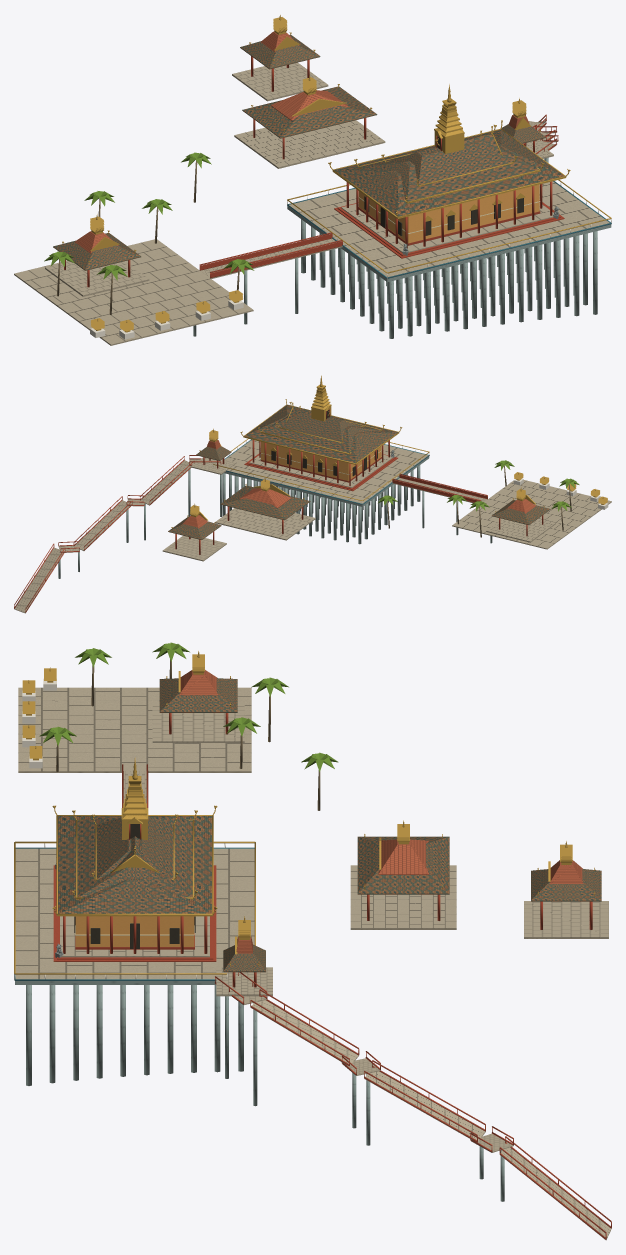
File: chua-ta-pa-mid.glb
3 views of the same model, one above another, from view 1: azimuth 30°, elevation 25°; view 2: azimuth 150°, elevation 25°; view 3: azimuth 270°, elevation 25° (orthographic). The views are drawn at different scales.
Visible parts, largest first — view 1: Chùa Tà Pạ mid; view 2: Chùa Tà Pạ mid; view 3: Chùa Tà Pạ mid.
Boxes of the visible parts, x1=… form: Chùa Tà Pạ mid: x1=14, y1=15, x2=611, y2=345; Chùa Tà Pạ mid: x1=14, y1=375, x2=611, y2=613; Chùa Tà Pạ mid: x1=14, y1=642, x2=611, y2=1240.
Bounding box in the file's own units: 129 × 51.24 × 84.57.
1 material, 1 textured.
